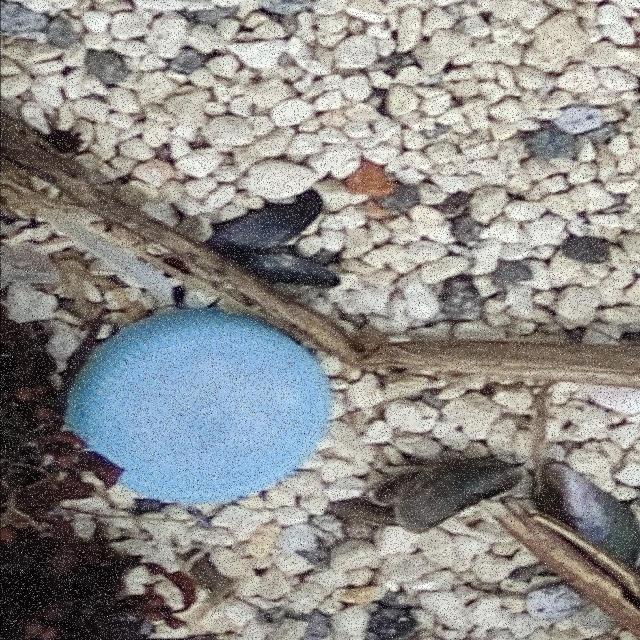plastic_waste: (57, 310, 333, 507)
